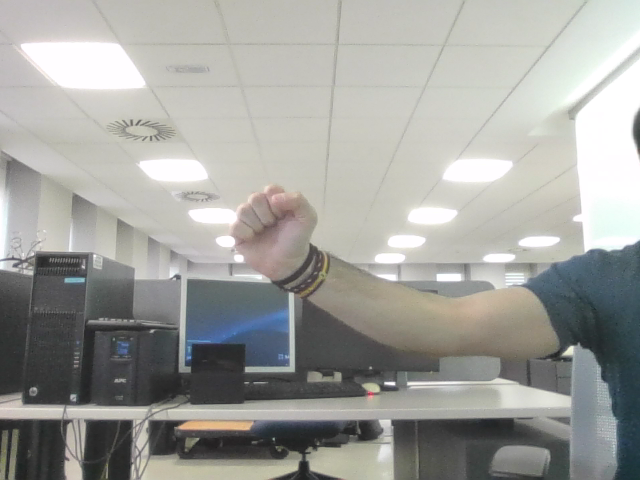Puño: (235, 192, 302, 241)
